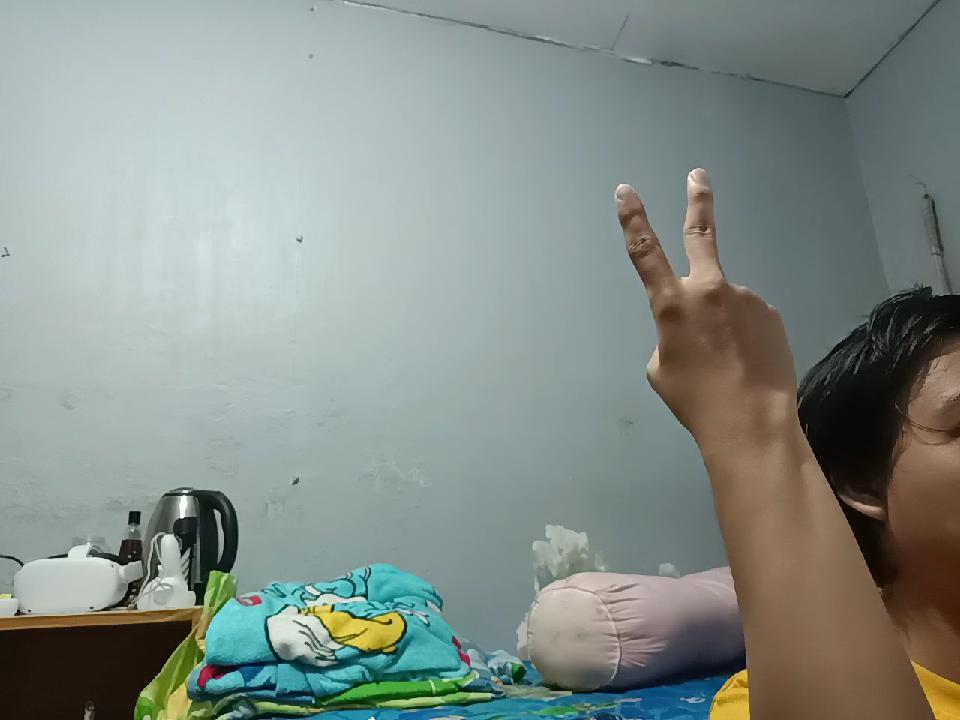scissors: (602, 170, 782, 418)
